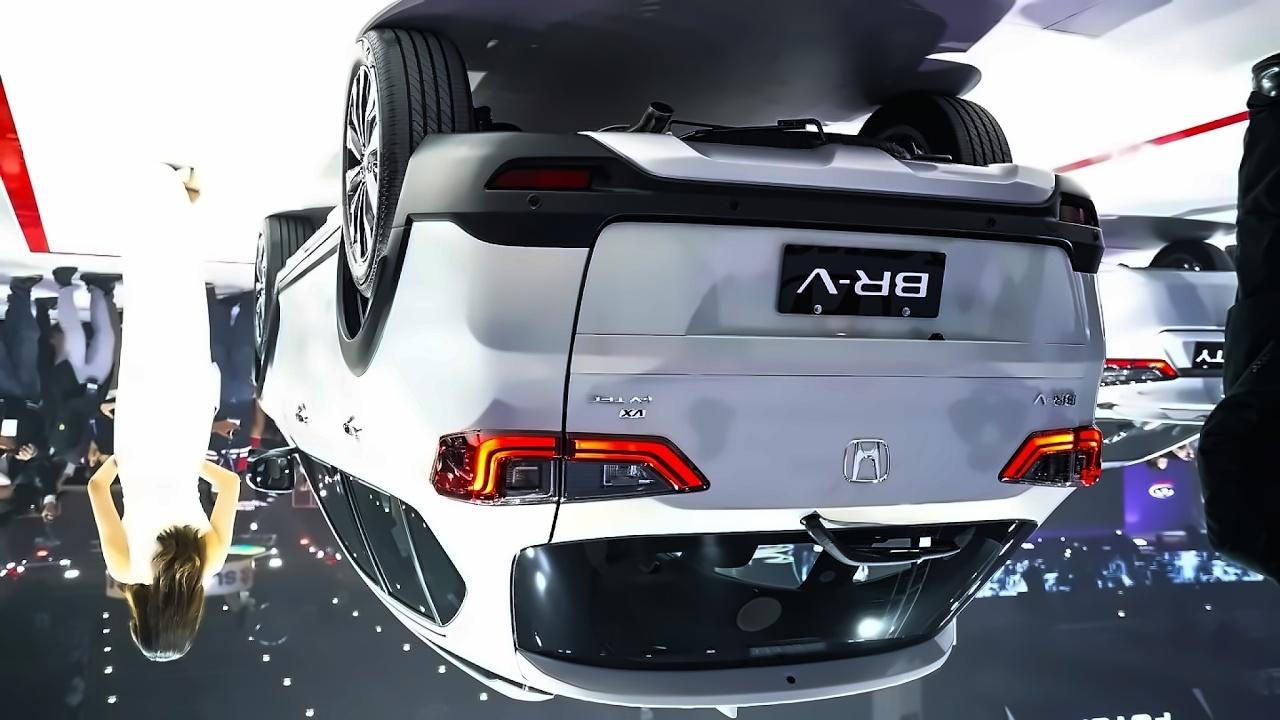Car boot: (508, 213, 1061, 689)
Driver-s door - -F-R-: (286, 252, 364, 580)
Fender - -R-R-: (344, 289, 448, 513)
Passenger-s door - -R-R-: (338, 242, 446, 642)
Rear bumper: (386, 104, 1128, 351)
Rear light - -L-: (990, 418, 1117, 498)
Rear light - -R-: (424, 424, 721, 511)
Side bumper - -R-: (262, 190, 354, 298)
Side mirror - -R-: (234, 436, 321, 502)
